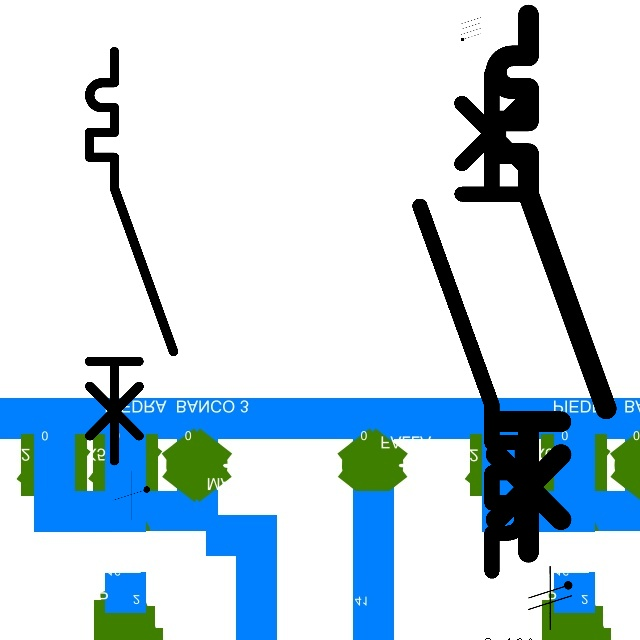interruptor_termomagnetico: (482, 1, 620, 566), (407, 60, 535, 584), (79, 41, 184, 471)
